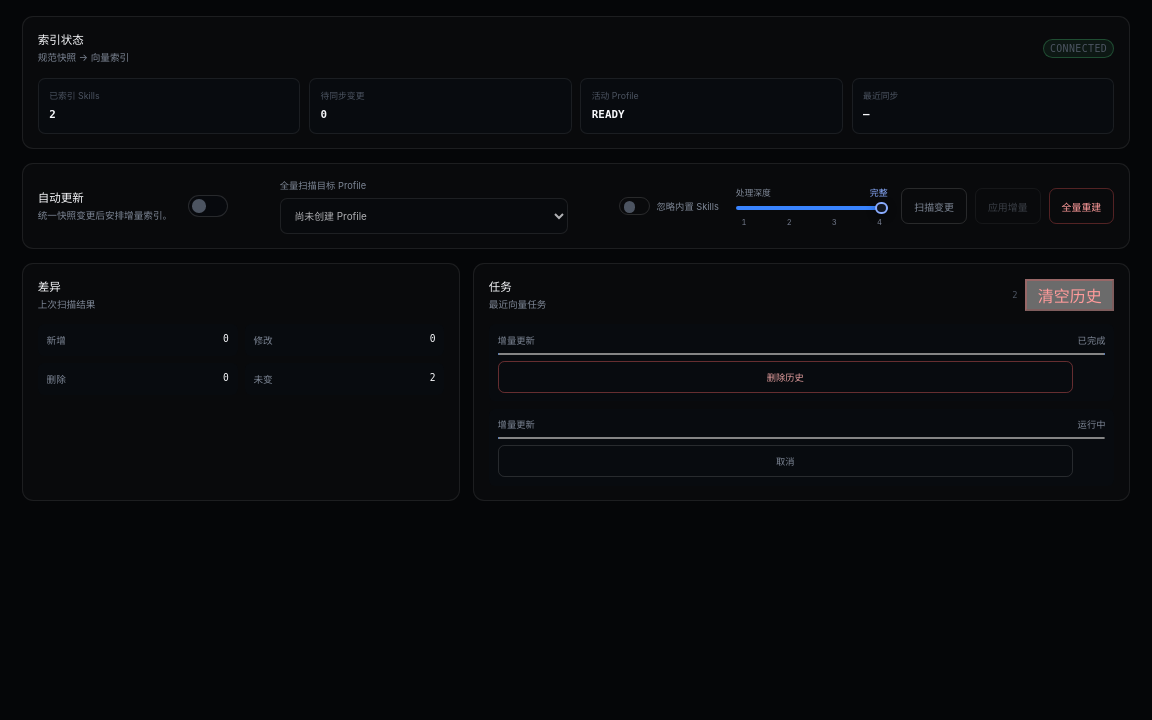
Test case: IndexSyncPanel Jobs history › clears only finished history and reloads the server list
This screenshot has width=1152, height=720.
Click the button "清空历史".
click(1070, 295)  # box [1025, 279, 1114, 311]
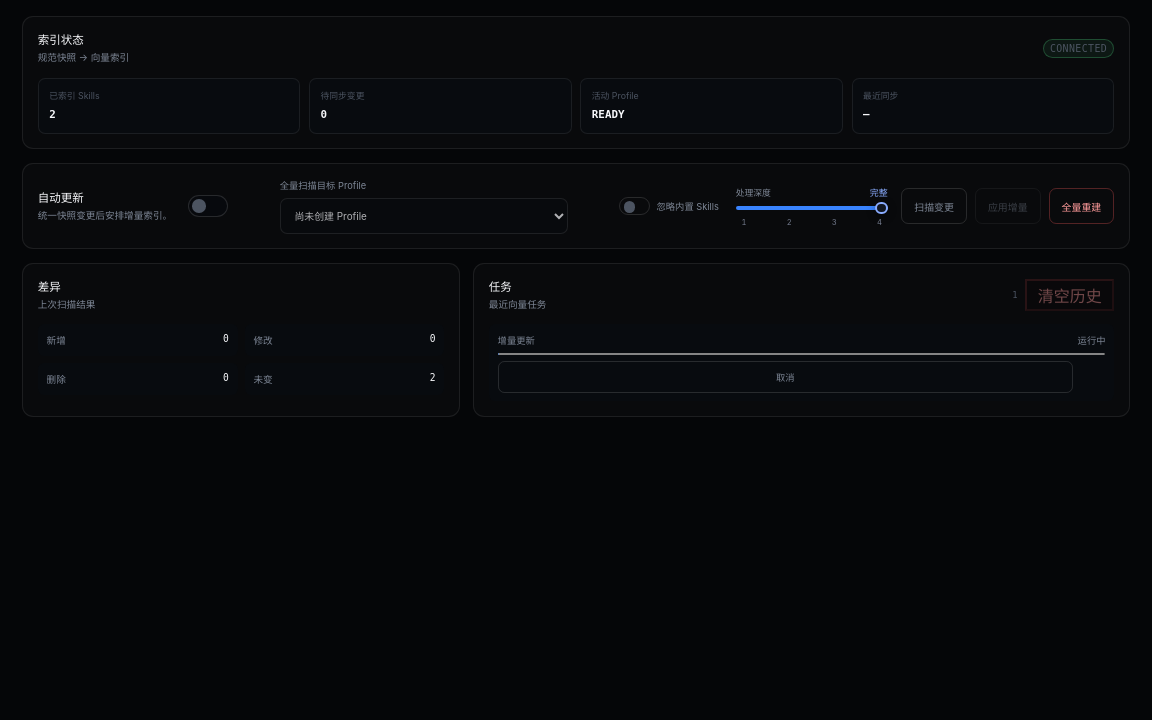
Expected: the button "取消" is shown, [498, 360, 1073, 392]
Expected: the button "清空历史" is disabled, [1025, 279, 1114, 311]
